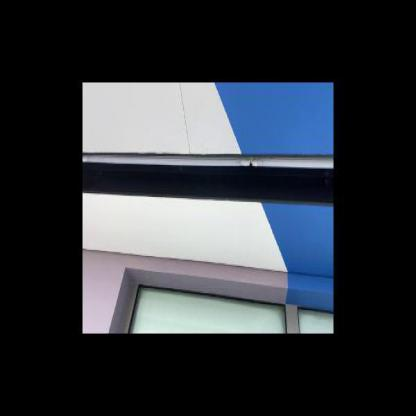light_off: (82, 130, 332, 186)
